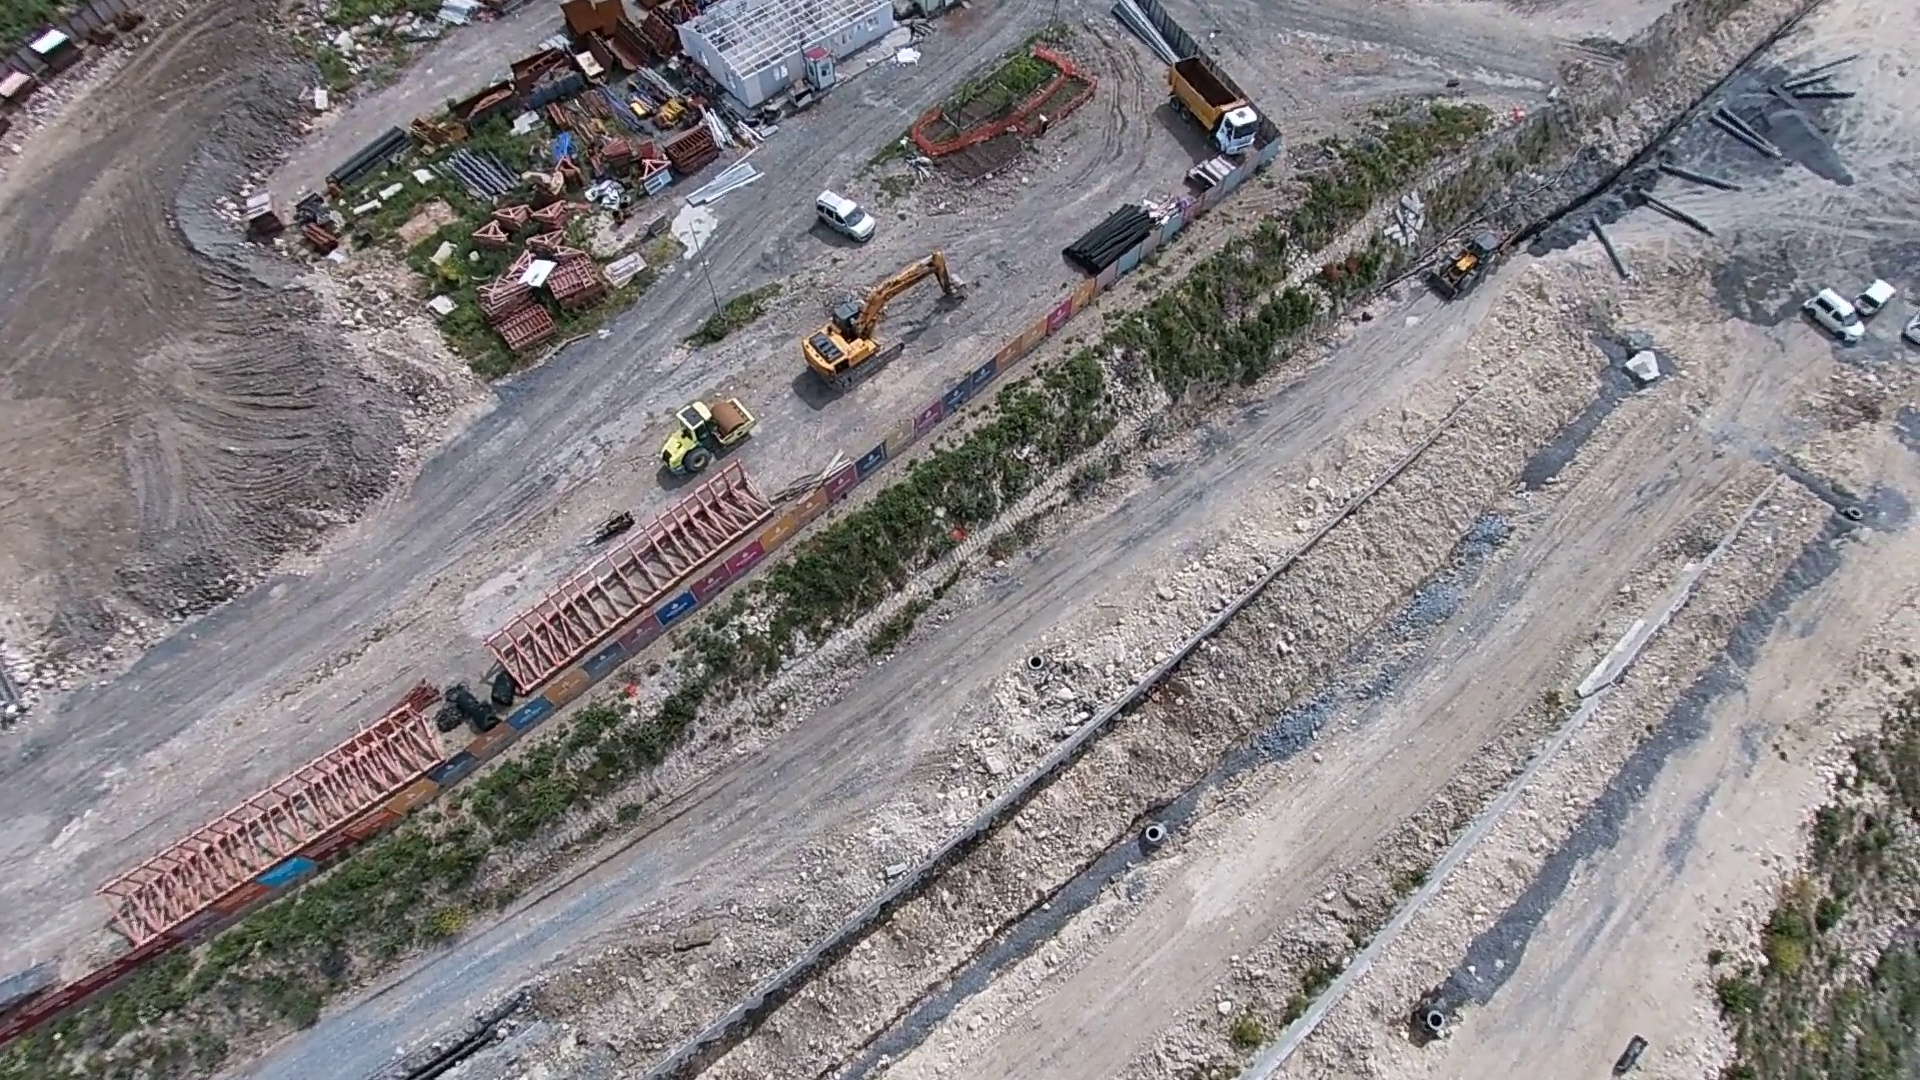araba: (818, 181, 887, 244), (1805, 282, 1865, 343), (1851, 270, 1905, 315), (1902, 294, 1920, 342)
ismakinesi: (796, 247, 971, 389)
kamyon: (1168, 55, 1266, 157)
traktor: (647, 386, 764, 480), (1422, 218, 1515, 303)
